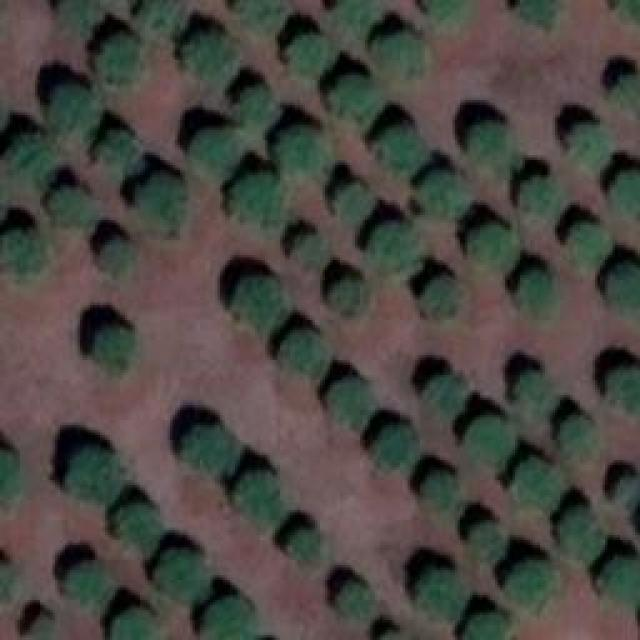Tree: (510, 457, 568, 515), (233, 275, 283, 335), (183, 425, 238, 478), (5, 133, 58, 186), (137, 175, 185, 233), (465, 415, 515, 470), (68, 450, 118, 503), (160, 548, 210, 601), (368, 223, 418, 276), (417, 570, 465, 625), (50, 85, 98, 138), (378, 125, 428, 175), (420, 170, 470, 220), (468, 123, 513, 178), (113, 502, 163, 550), (372, 423, 420, 473), (280, 330, 328, 380), (330, 75, 380, 123), (468, 225, 518, 273), (187, 35, 235, 83), (0, 230, 45, 280), (233, 175, 278, 225), (373, 33, 423, 78), (558, 510, 603, 560), (505, 560, 555, 605), (238, 472, 283, 520), (285, 33, 333, 78), (65, 565, 115, 608), (198, 600, 251, 640), (330, 378, 370, 431), (190, 130, 243, 170), (100, 37, 143, 85), (568, 125, 611, 173), (98, 133, 143, 178), (278, 128, 323, 171), (425, 375, 468, 420), (50, 188, 98, 228), (235, 0, 288, 35), (515, 373, 558, 416), (602, 557, 640, 605), (520, 175, 560, 220), (517, 273, 555, 318), (95, 328, 133, 371), (570, 225, 608, 268), (425, 473, 465, 513), (58, 0, 103, 35), (605, 368, 640, 413), (137, 0, 184, 32), (515, 0, 563, 30), (563, 415, 596, 458), (607, 264, 640, 307), (237, 90, 275, 125), (115, 610, 158, 640), (333, 0, 376, 30), (473, 522, 506, 560), (420, 280, 458, 313), (338, 185, 368, 225), (425, 0, 473, 25), (610, 172, 640, 210), (330, 280, 363, 313), (465, 615, 508, 640), (615, 73, 640, 116), (338, 583, 368, 616), (290, 533, 318, 566), (103, 240, 133, 270), (292, 233, 320, 263), (0, 453, 15, 508), (617, 472, 640, 507), (0, 565, 18, 605), (33, 615, 53, 640)
